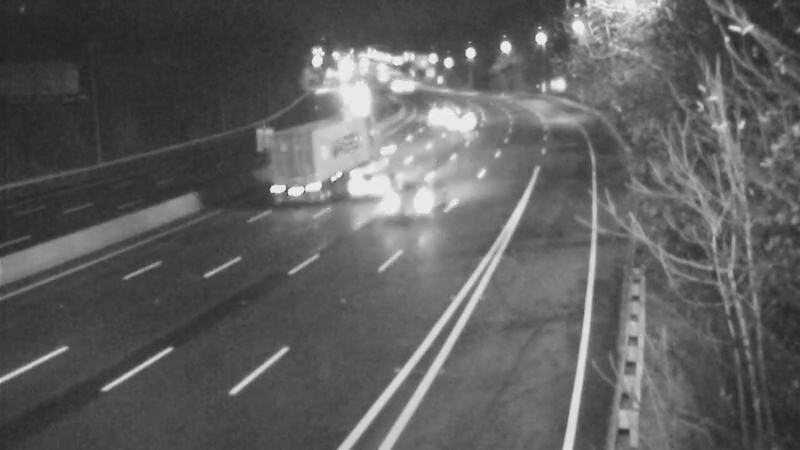vehicle: (273, 114, 353, 194), (329, 144, 409, 224), (376, 159, 456, 239), (407, 87, 457, 137), (433, 99, 483, 149), (335, 69, 385, 119)
